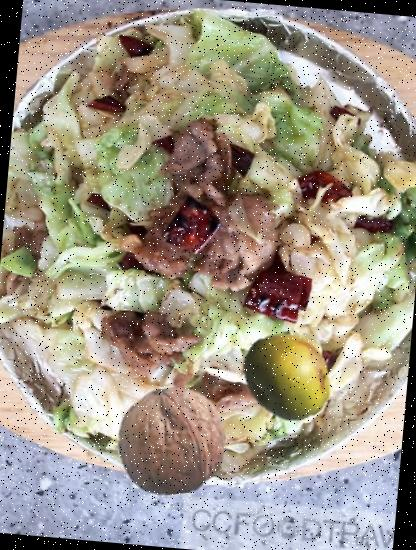Pomelo: (238, 326, 340, 428)
Walnut: (113, 382, 232, 501)
